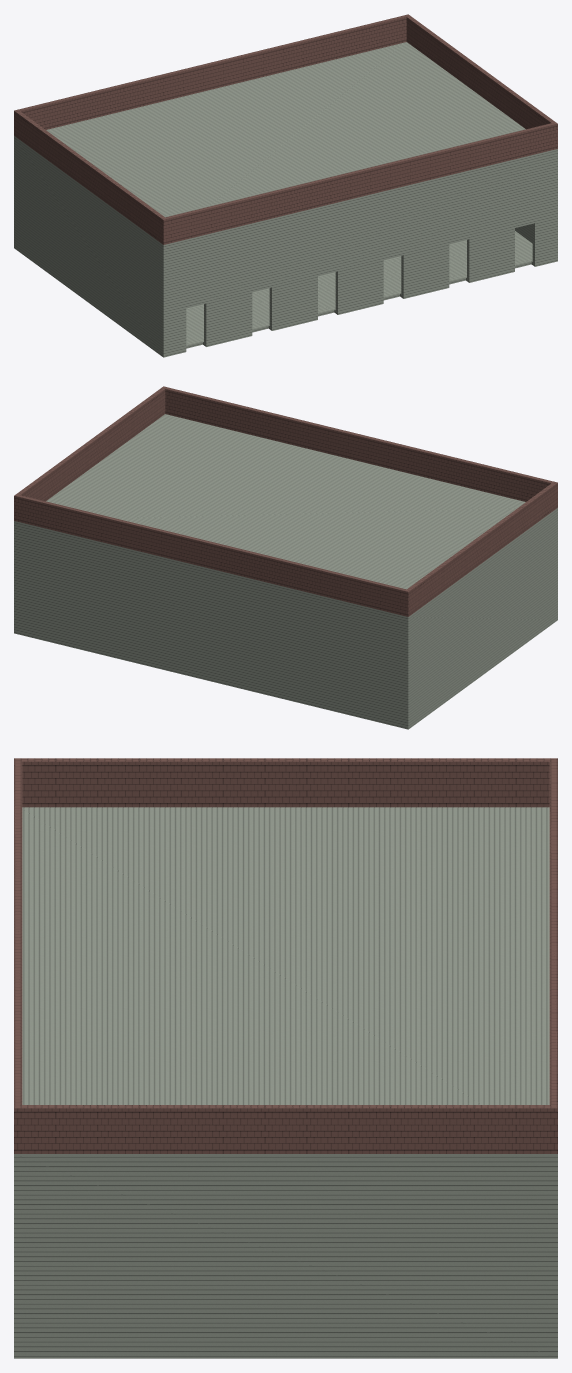
Rendered from apartment_small.glb.
The picture shows the model from 3 angles, top to bottom: view 1: azimuth 30°, elevation 25°; view 2: azimuth 150°, elevation 25°; view 3: azimuth 270°, elevation 25°; orthographic projection. The views are drawn at different scales.
Visible parts, largest first — view 1: apartment_small-col; view 2: apartment_small-col; view 3: apartment_small-col.
Boxes of the visible parts, x1=… form: apartment_small-col: x1=14, y1=14, x2=557, y2=357; apartment_small-col: x1=14, y1=386, x2=557, y2=729; apartment_small-col: x1=14, y1=758, x2=557, y2=1358.
Size of the model in its own units: 19.8 by 6.6 by 13.
2 materials, 2 textured.
